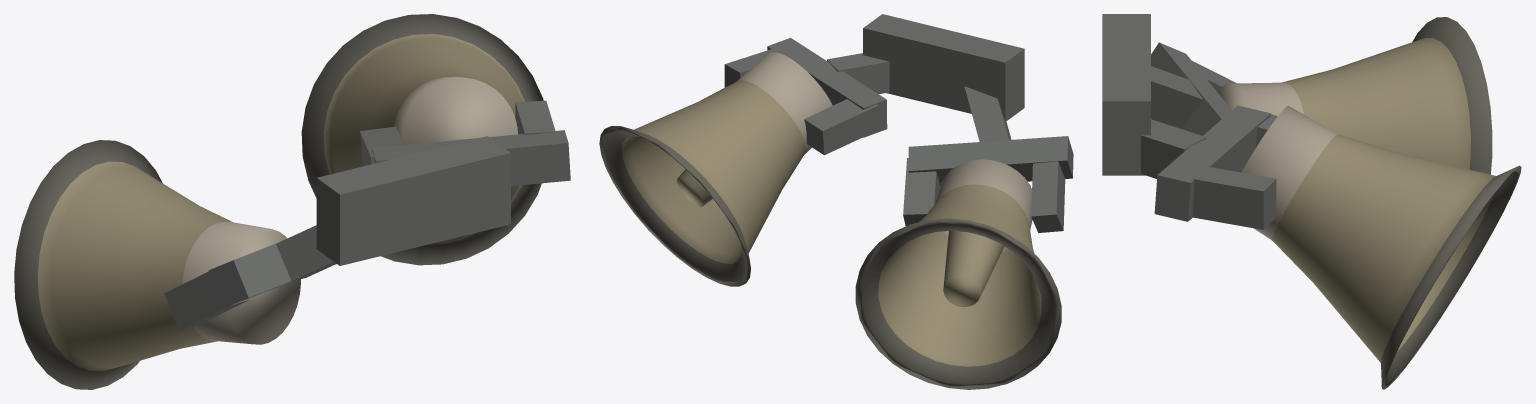
File: Speakers.fbx
The picture shows the model from 3 angles, left to right: view 1: azimuth 30°, elevation 25°; view 2: azimuth 150°, elevation 25°; view 3: azimuth 270°, elevation 25°; orthographic projection. The views are drawn at different scales.
Parts seen in each view (by area): view 1: Cylinder.001; view 2: Cylinder.001; view 3: Cylinder.001.
Boxes of the visible parts, box(x1,y1,x2,y2) form: Cylinder.001: box(14, 14, 570, 389); Cylinder.001: box(599, 14, 1073, 389); Cylinder.001: box(1102, 14, 1521, 389).
Bounding box in the file's own units: 175 × 88.1 × 112.
